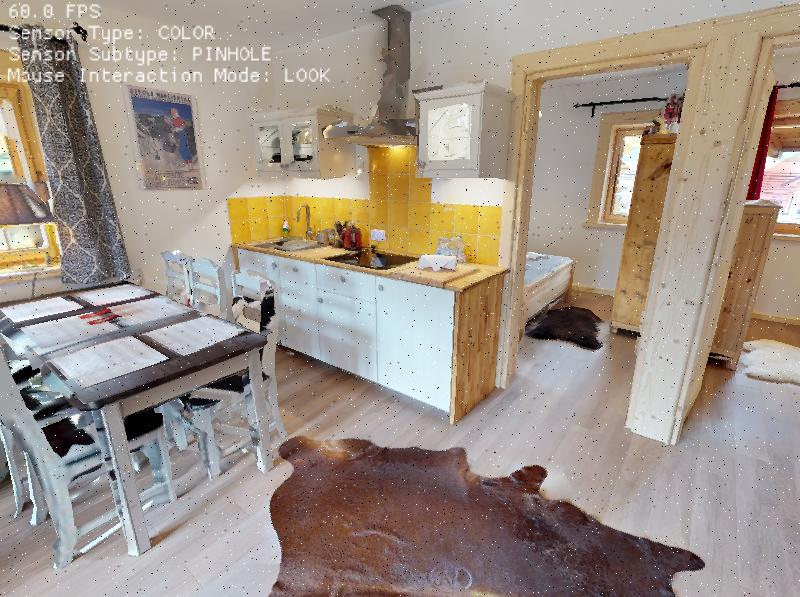chair: (0, 327, 147, 570), (164, 257, 297, 490)
door-frame: (502, 64, 681, 434)
sink: (267, 202, 321, 270)
table: (3, 259, 281, 555)
